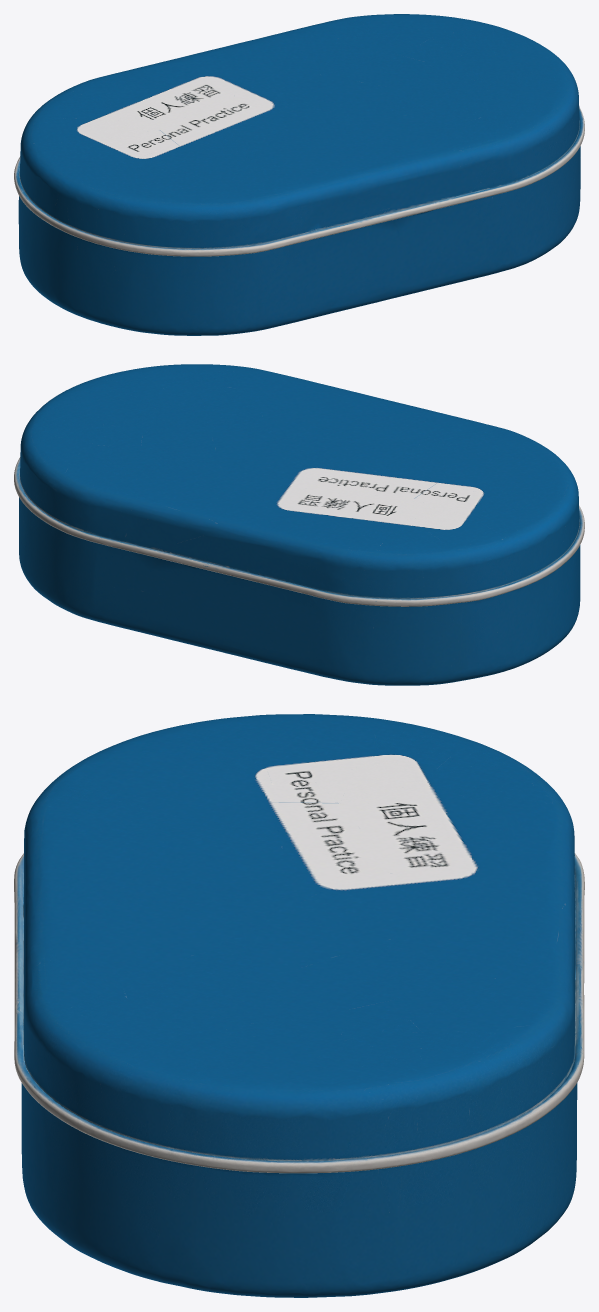
The model's file is blue-tin-20261024.glb.
The picture shows the model from 3 angles, top to bottom: view 1: azimuth 30°, elevation 25°; view 2: azimuth 150°, elevation 25°; view 3: azimuth 270°, elevation 25°; orthographic projection. The views are drawn at different scales.
Size of the model in its own units: 1.9 by 0.4734 by 1.15.
1 material, 1 textured.
